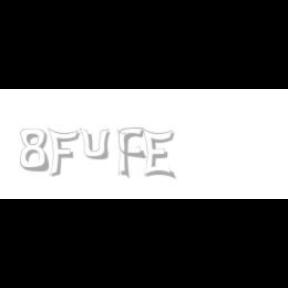8: (20, 128, 48, 172)
E: (142, 128, 174, 180)
F: (47, 128, 79, 178)
I: (118, 128, 130, 180)
c: (119, 128, 148, 160)
u: (78, 128, 114, 160)
